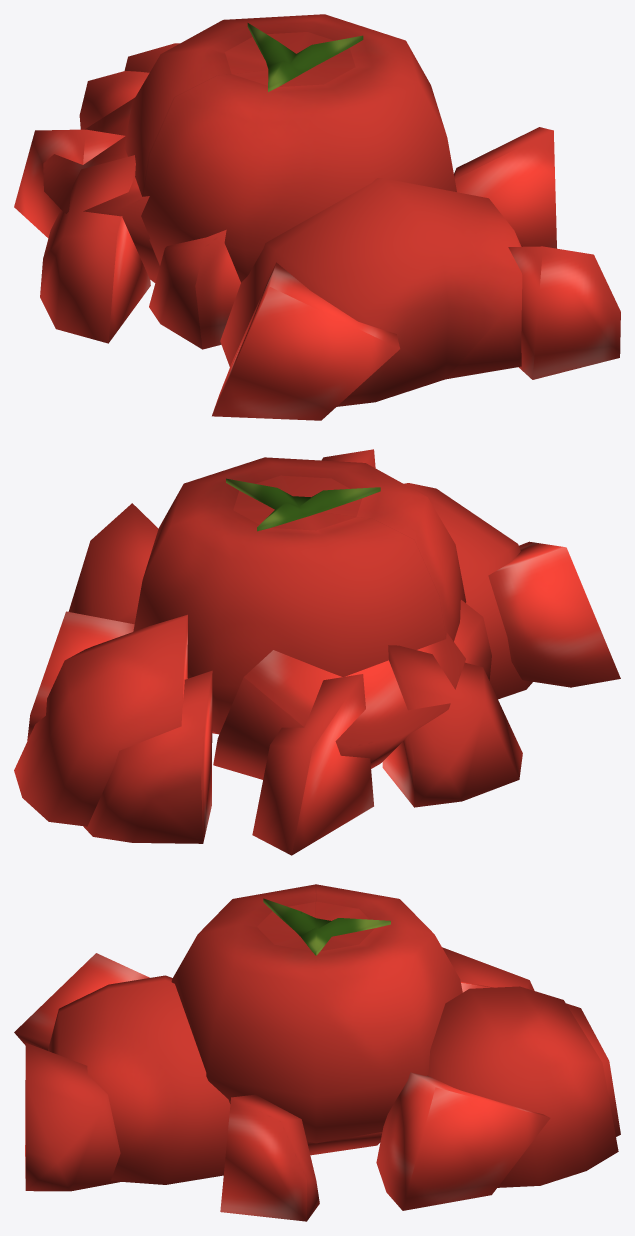
The model's file is tomato.fbx.
3 views of the same model, one above another, from view 1: azimuth 30°, elevation 25°; view 2: azimuth 150°, elevation 25°; view 3: azimuth 270°, elevation 25° (orthographic). The views are drawn at different scales.
Parts seen in each view (by area): view 1: tomato_4, tomato_1, tomato_3, tomato_2; view 2: tomato_4, tomato_1, tomato_3, tomato_2; view 3: tomato_3, tomato_1, tomato_4, tomato_2.
Boxes of the visible parts, x1,y1,x2,y2 form: tomato_4: (14,71,620,420); tomato_1: (124,14,456,249); tomato_3: (43,43,522,406); tomato_2: (141,32,355,282); tomato_4: (27,449,620,855); tomato_1: (133,457,466,685); tomato_3: (14,483,532,826); tomato_2: (187,475,459,734); tomato_3: (48,975,618,1187); tomato_1: (171,884,462,1095); tomato_4: (14,947,620,1221); tomato_2: (206,901,428,1143).
Size of the model in its own units: 0.0834 by 0.0394 by 0.1066.
